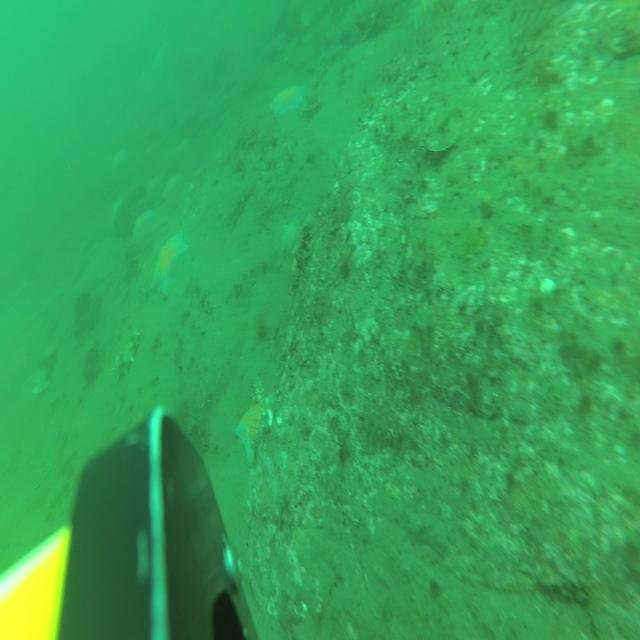holothurian: (112, 332, 140, 382)
scallop: (31, 369, 49, 396), (44, 335, 59, 360)
starfish: (236, 393, 279, 469), (150, 229, 188, 302), (269, 82, 308, 120), (282, 219, 307, 259), (134, 211, 156, 248), (164, 170, 185, 204)
